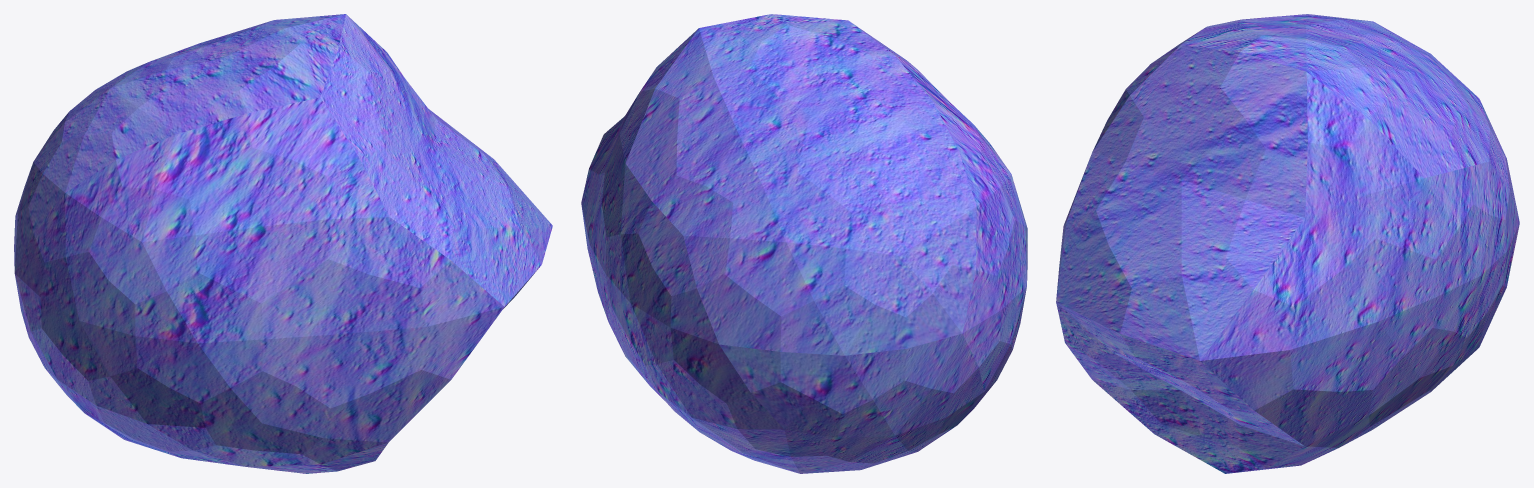
Rendered from bigasteroid15_LOD3.fbx.
3 renders of one model, left to right at view 1: azimuth 30°, elevation 25°; view 2: azimuth 150°, elevation 25°; view 3: azimuth 270°, elevation 25°, orthographic.
Parts seen in each view (by area): view 1: Icosphere; view 2: Icosphere; view 3: Icosphere.
Part boxes in pixels (left/top/right/bottom): Icosphere: left=14, top=14, right=552, bottom=473; Icosphere: left=581, top=14, right=1027, bottom=473; Icosphere: left=1056, top=14, right=1519, bottom=473.
Bounding box in the file's own units: 240 × 209 × 208.
